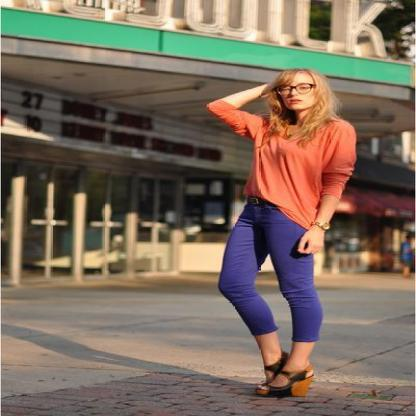pants: (218, 196, 322, 342)
shirt: (207, 99, 356, 224)
shoe: (262, 358, 313, 399)
